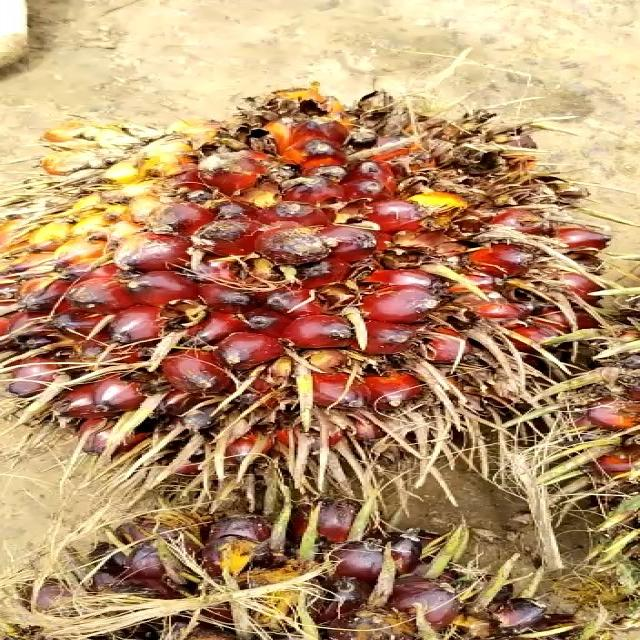palm oil: (27, 86, 621, 522)
